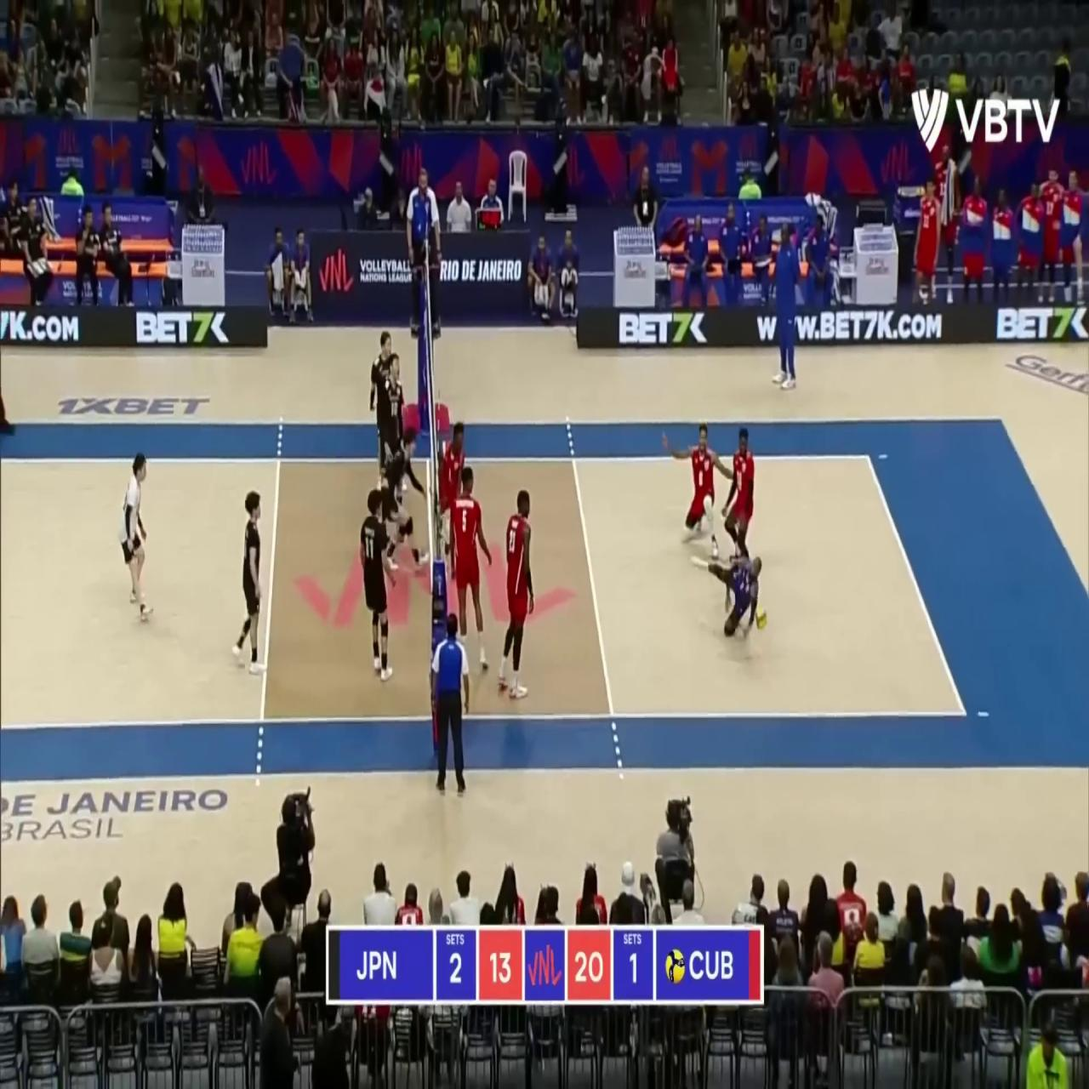ball: (756, 606, 768, 628)
